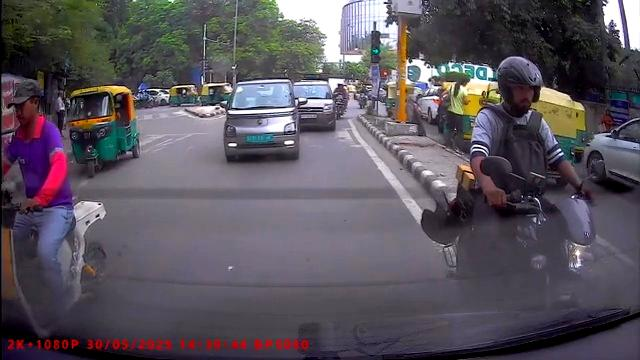motorcycle_with_helmet: (422, 53, 599, 312)
motorcycle_without_helmet: (1, 81, 111, 332)
